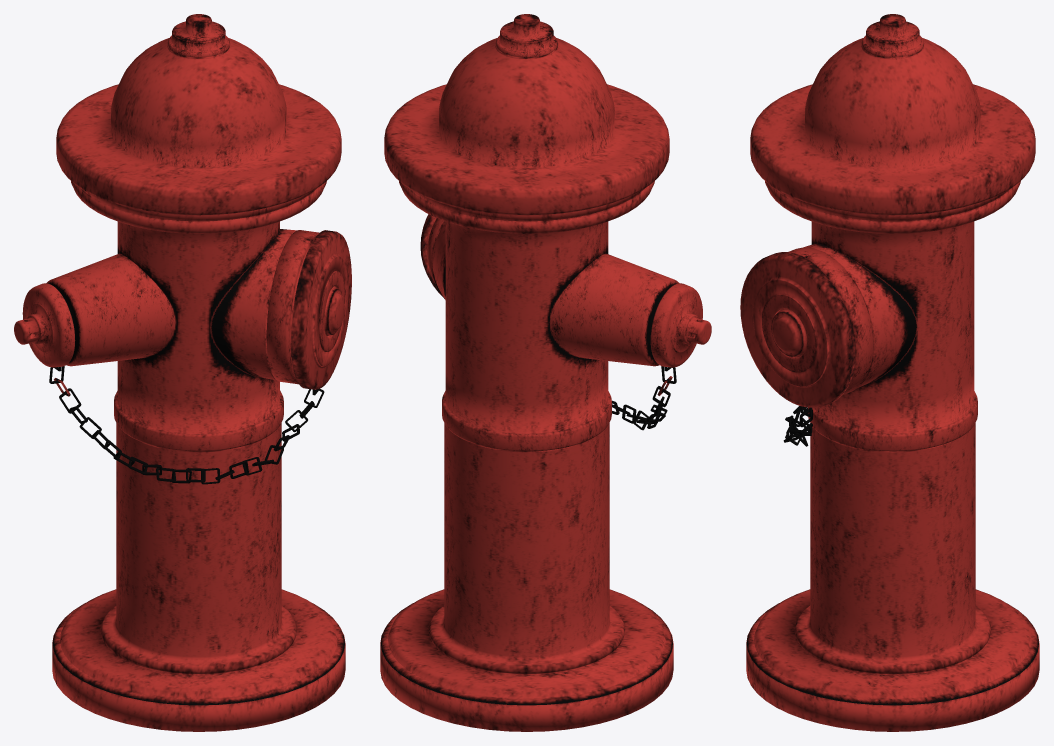
File: fire_hydrant.glb
3 renders of one model, left to right at view 1: azimuth 30°, elevation 25°; view 2: azimuth 150°, elevation 25°; view 3: azimuth 270°, elevation 25°, orthographic.
Parts seen in each view (by area): view 1: Plane_0; view 2: Plane_0; view 3: Plane_0.
Boxes of the visible parts, x1,y1,x2,y2 form: Plane_0: (14,14,351,731); Plane_0: (380,14,711,731); Plane_0: (740,14,1039,731).
Bounding box in the file's own units: 2.2 × 4.43 × 1.84.
1 material, 1 textured.
